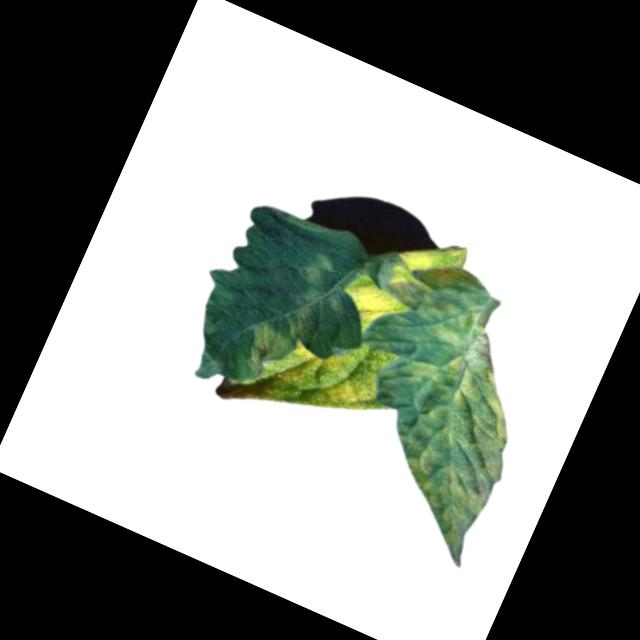Leaf_Mold: (325, 250, 575, 565), (279, 333, 389, 422), (235, 292, 315, 391), (335, 270, 412, 342), (400, 244, 442, 281)
